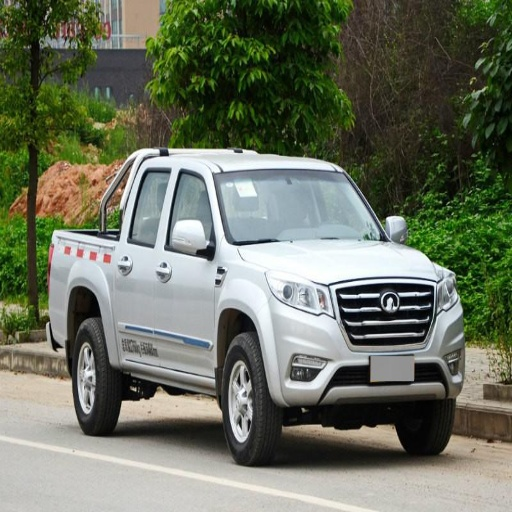front_bumper: (259, 277, 466, 407)
front_right_door: (155, 167, 216, 376)
front_right_light: (268, 274, 331, 313)
hood: (240, 242, 442, 282)
trunk: (46, 233, 110, 344)
